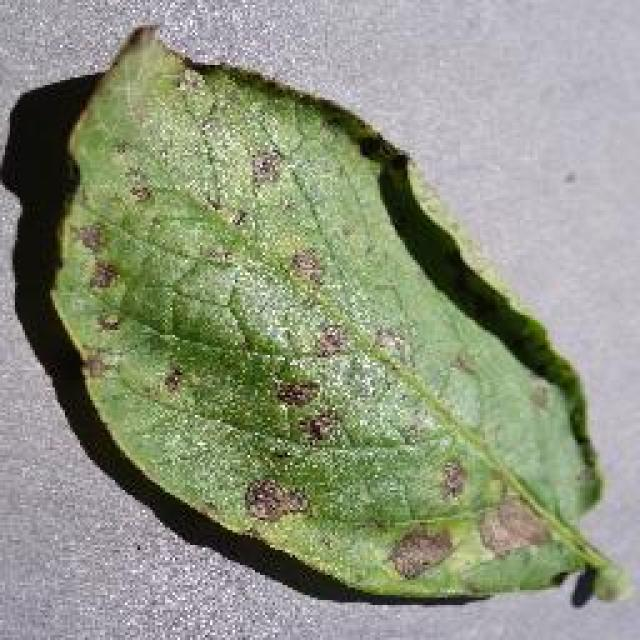early_blight: (42, 22, 630, 610)
